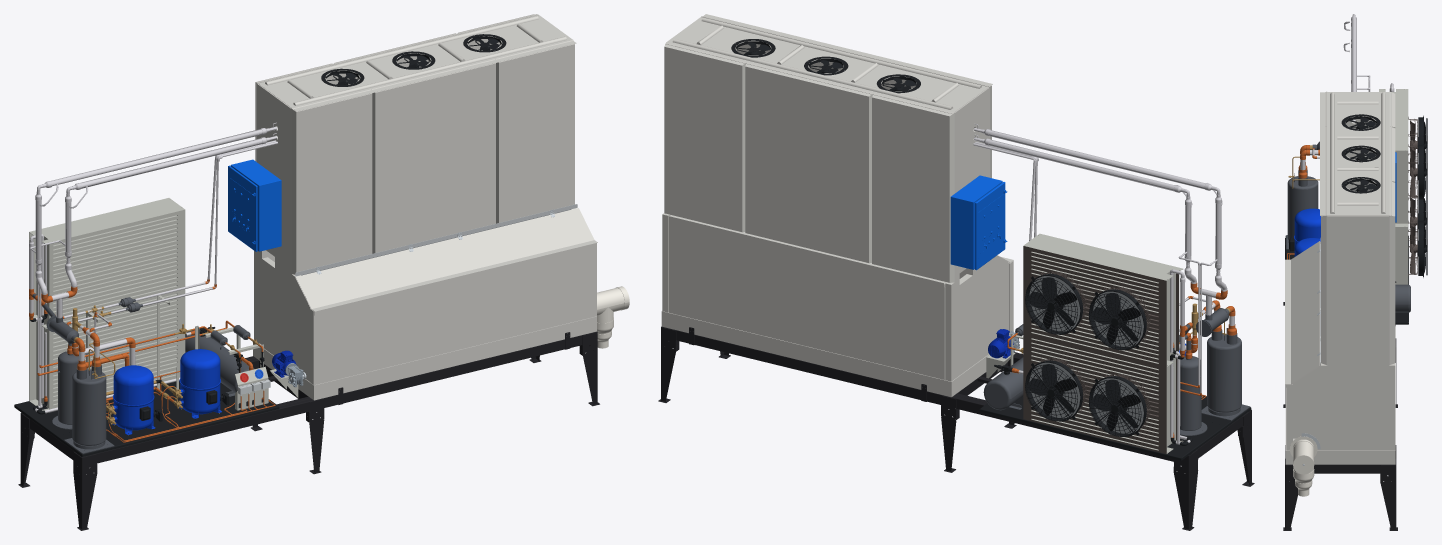
The picture shows the model from 3 angles, left to right: view 1: azimuth 30°, elevation 25°; view 2: azimuth 150°, elevation 25°; view 3: azimuth 270°, elevation 25°; orthographic projection. The views are drawn at different scales.
Size of the model in its own units: 5.69 by 3.39 by 1.4.
